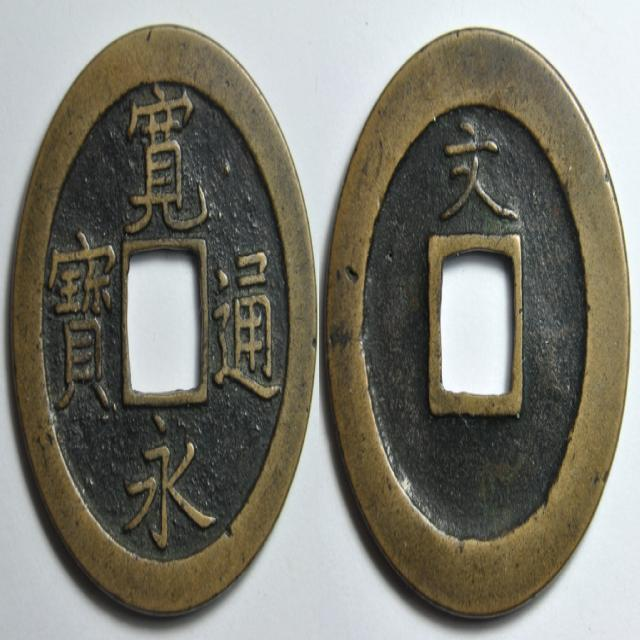Coin: (324, 18, 634, 622), (6, 21, 320, 616)
